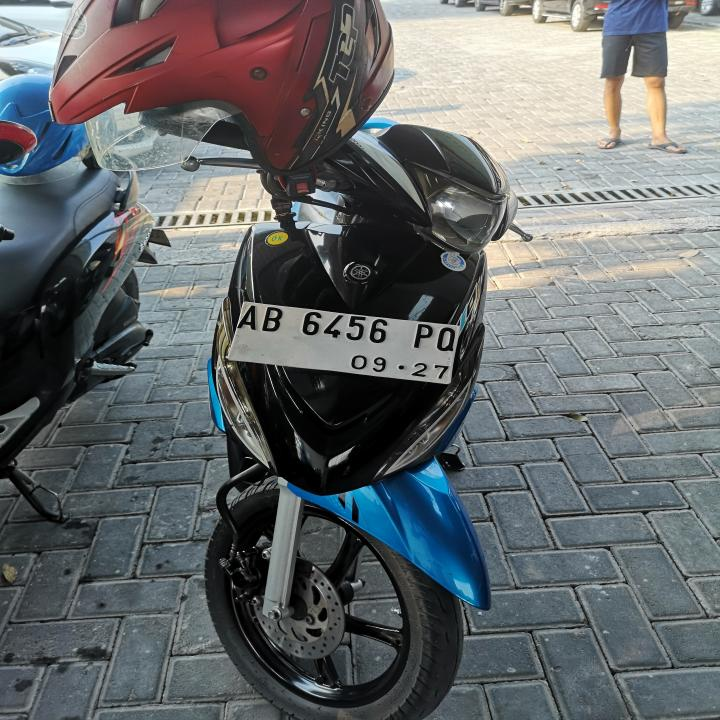plate: (223, 298, 464, 390)
